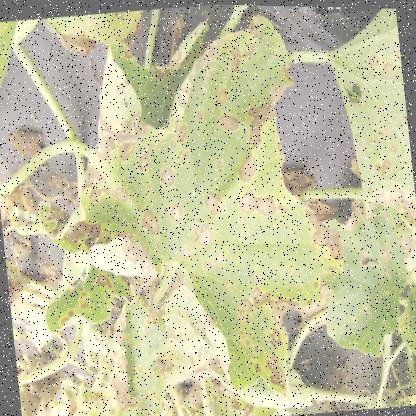AlternariaBrassicicola: (239, 77, 301, 148), (304, 200, 344, 264), (234, 184, 287, 218), (369, 182, 415, 220), (267, 294, 303, 335), (225, 35, 259, 77), (263, 349, 289, 391), (232, 148, 261, 183), (134, 137, 158, 173), (201, 182, 226, 216), (346, 126, 374, 152), (138, 203, 160, 236), (198, 246, 226, 271), (369, 153, 394, 180), (236, 326, 260, 354), (214, 109, 240, 133), (191, 218, 212, 246), (393, 146, 412, 175), (166, 197, 185, 225), (251, 283, 273, 307), (91, 270, 113, 294), (158, 162, 176, 188), (396, 101, 408, 139), (365, 43, 383, 66), (141, 304, 157, 328), (343, 304, 358, 329), (236, 293, 254, 312), (376, 240, 390, 264), (214, 84, 230, 105), (359, 291, 371, 317), (174, 121, 188, 142), (374, 117, 389, 135), (212, 153, 224, 170), (381, 55, 393, 70), (236, 308, 246, 325), (194, 104, 203, 122), (180, 244, 190, 259), (142, 181, 152, 196), (142, 405, 156, 415), (224, 278, 235, 290), (240, 226, 248, 241), (283, 264, 292, 275), (293, 275, 300, 288), (181, 149, 189, 160), (312, 275, 319, 286), (254, 268, 260, 279)
